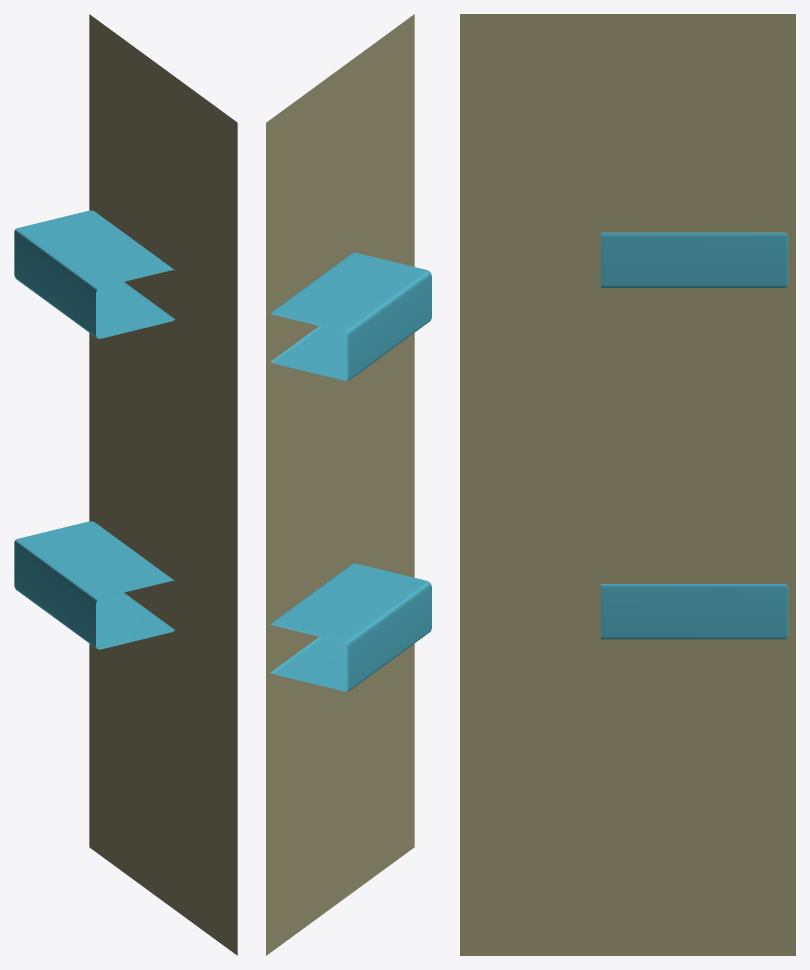
The model's file is SM_Hous2Side_2Floor.fbx.
The picture shows the model from 3 angles, left to right: view 1: azimuth 30°, elevation 25°; view 2: azimuth 150°, elevation 25°; view 3: azimuth 270°, elevation 25°; orthographic projection. The views are drawn at different scales.
Visible parts, largest first — view 1: SM_Hous2Side_2Floor; view 2: SM_Hous2Side_2Floor; view 3: SM_Hous2Side_2Floor.
Part boxes in pixels (<box>): SM_Hous2Side_2Floor: <box>14,14,237,955</box>; SM_Hous2Side_2Floor: <box>266,14,431,955</box>; SM_Hous2Side_2Floor: <box>460,14,795,955</box>.
Size of the model in its own units: 0.3304 by 3.25 by 1.05.
